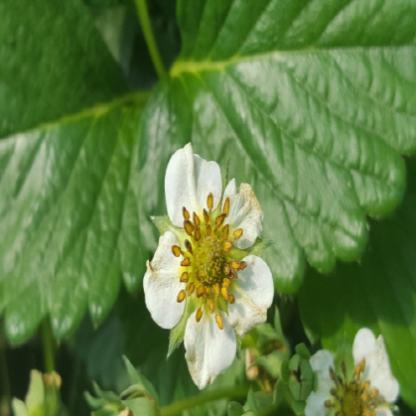Strawberry_Blossom_Blight: (168, 188, 249, 330)
